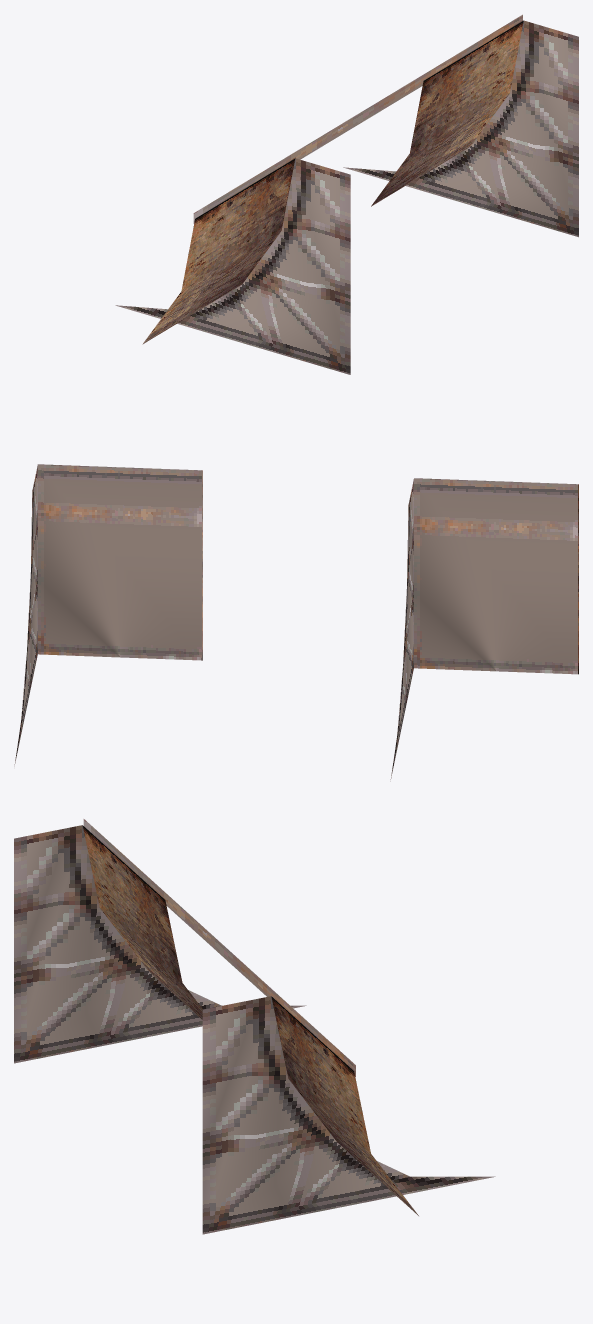
Rendered from ps2_save-icons_tonyhawksprovingground.glb.
3 views of the same model, one above another, from view 1: azimuth 30°, elevation 25°; view 2: azimuth 150°, elevation 25°; view 3: azimuth 270°, elevation 25° (orthographic). The views are drawn at different scales.
Visible parts, largest first — view 1: thpg.ico; view 2: thpg.ico; view 3: thpg.ico.
Part boxes in pixels (x1=…): thpg.ico: x1=115, y1=14, x2=578, y2=374; thpg.ico: x1=14, y1=464, x2=578, y2=781; thpg.ico: x1=14, y1=819, x2=495, y2=1234.
Bounding box in the file's own units: 3.4 × 1.21 × 2.67.
1 material, 1 textured.
